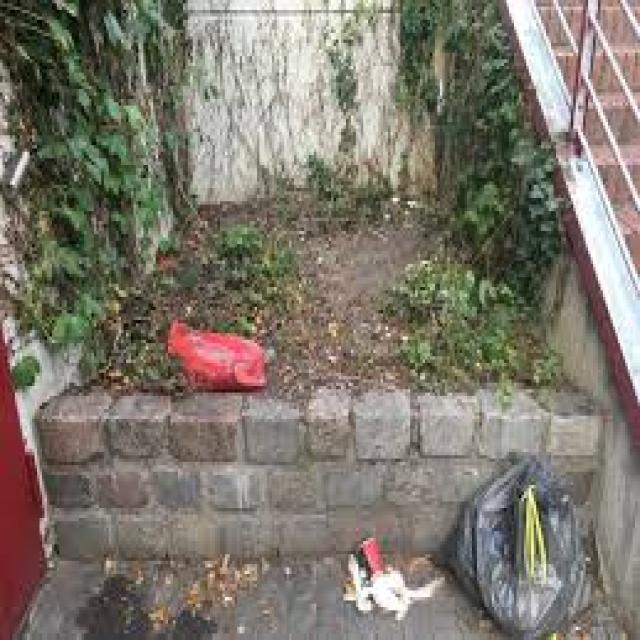garbage: (340, 441, 610, 640), (140, 305, 276, 400)
